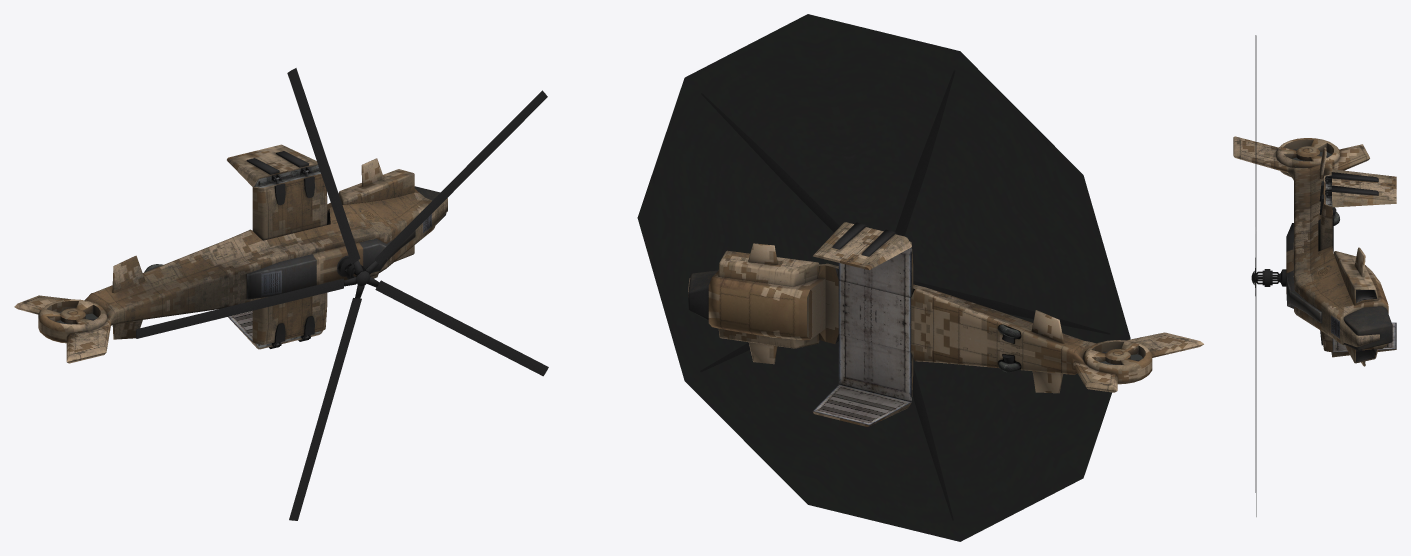
The model's file is veh_t6_drone_supply_LOD0.obj.
3 views of the same model, side by side, from view 1: azimuth 30°, elevation 25°; view 2: azimuth 150°, elevation 25°; view 3: azimuth 270°, elevation 25° (orthographic). The views are drawn at different scales.
Parts seen in each view (by area): view 1: mtl_veh_t6_drone_supply; view 2: mtl_veh_t6_drone_supply_blade_spin, mtl_veh_t6_drone_supply; view 3: mtl_veh_t6_drone_supply.
Part boxes in pixels (x1,y1,x2,y2): mtl_veh_t6_drone_supply: (14,68,548,520); mtl_veh_t6_drone_supply_blade_spin: (637,14,1142,541); mtl_veh_t6_drone_supply: (688,70,1203,520); mtl_veh_t6_drone_supply: (1233,35,1396,492).
Size of the model in its own units: 698 by 590 by 191.
